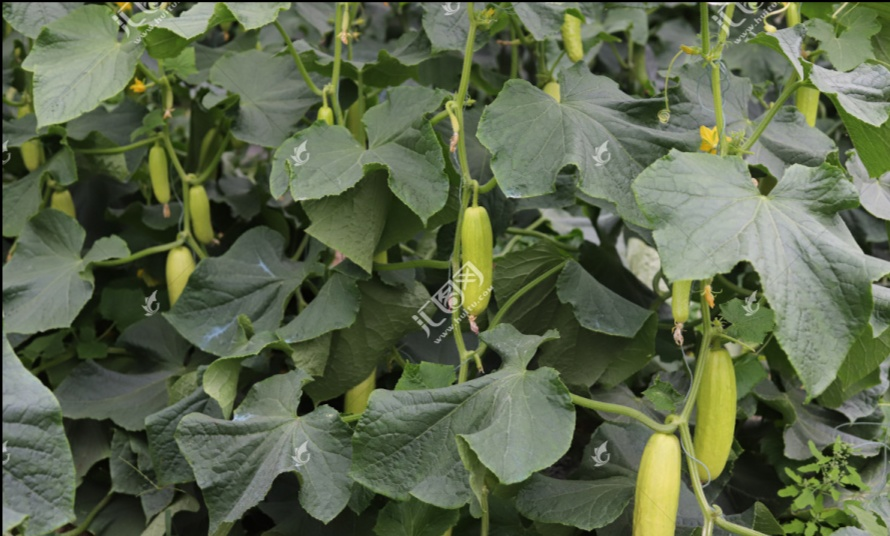cucumber_plant: (649, 117, 865, 392), (191, 380, 567, 523), (31, 3, 189, 132)
